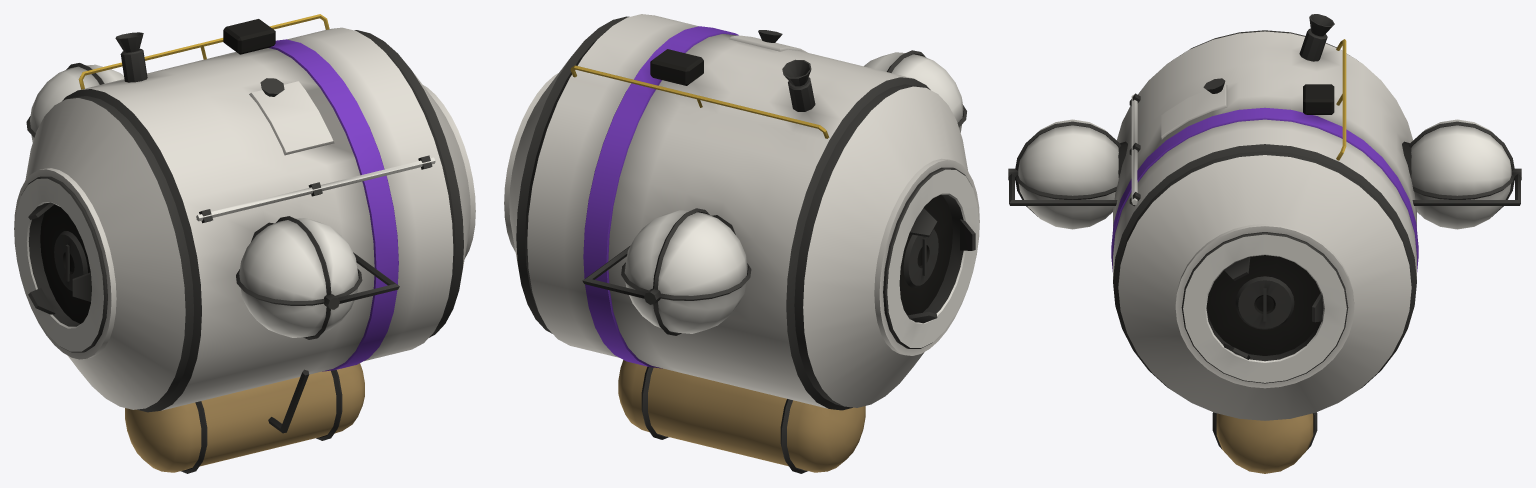
Rendered from life-support.glb.
The picture shows the model from 3 angles, left to right: view 1: azimuth 30°, elevation 25°; view 2: azimuth 150°, elevation 25°; view 3: azimuth 270°, elevation 25°; orthographic projection. The views are drawn at different scales.
Parts seen in each view (by area): view 1: body; view 2: body; view 3: body.
Boxes of the visible parts, box(x1,y1,x2,y2) form: body: box(14, 14, 475, 473); body: box(504, 14, 979, 473); body: box(1008, 14, 1521, 473).
Size of the model in its own units: 4.73 by 4.75 by 5.74.
